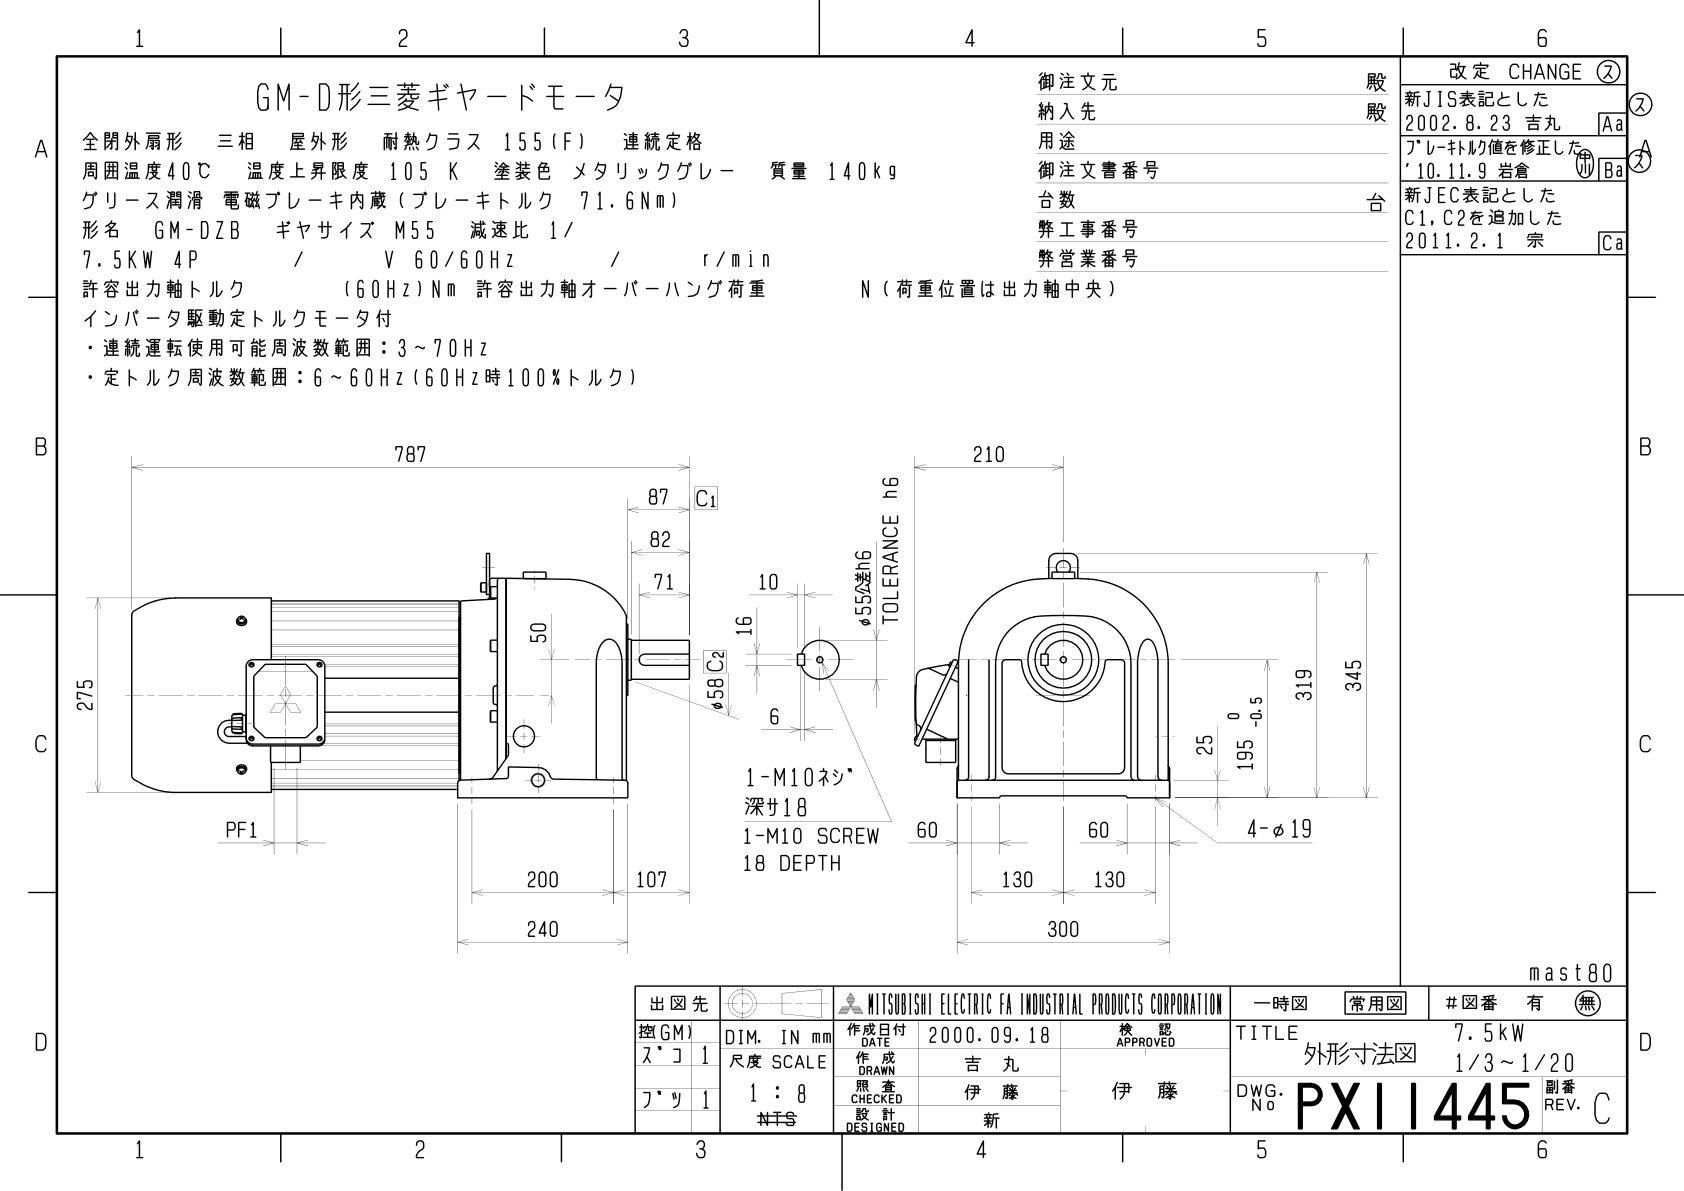GM_D_インバータ屋外_三相_脚: (61, 410, 1375, 956)
